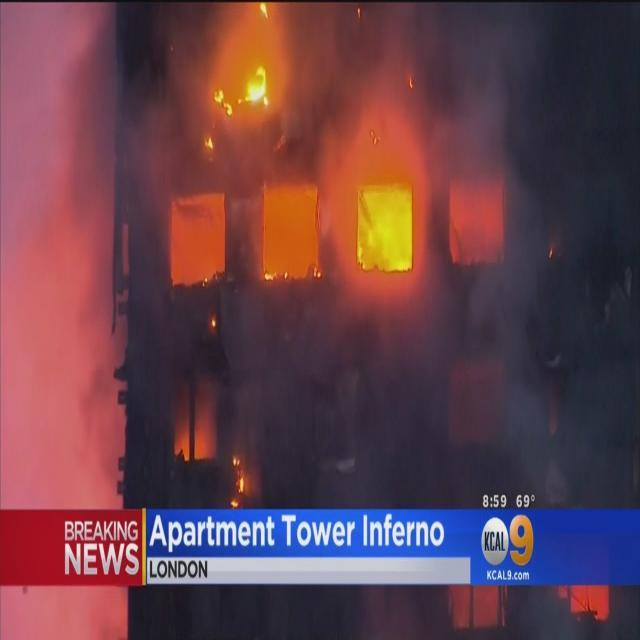Fire: (359, 183, 415, 278), (211, 49, 279, 117), (223, 448, 249, 516)
